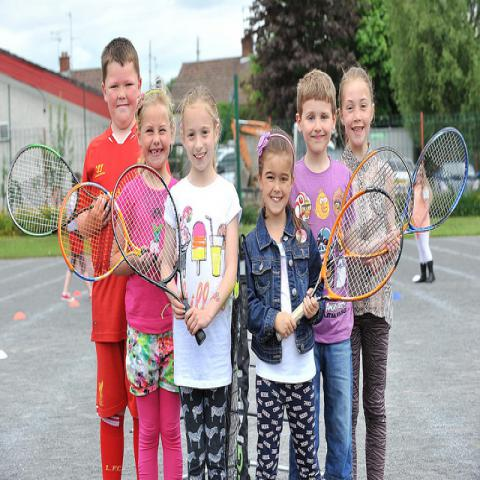car: (426, 161, 479, 214), (386, 158, 414, 195), (168, 144, 191, 172), (217, 146, 237, 174)
